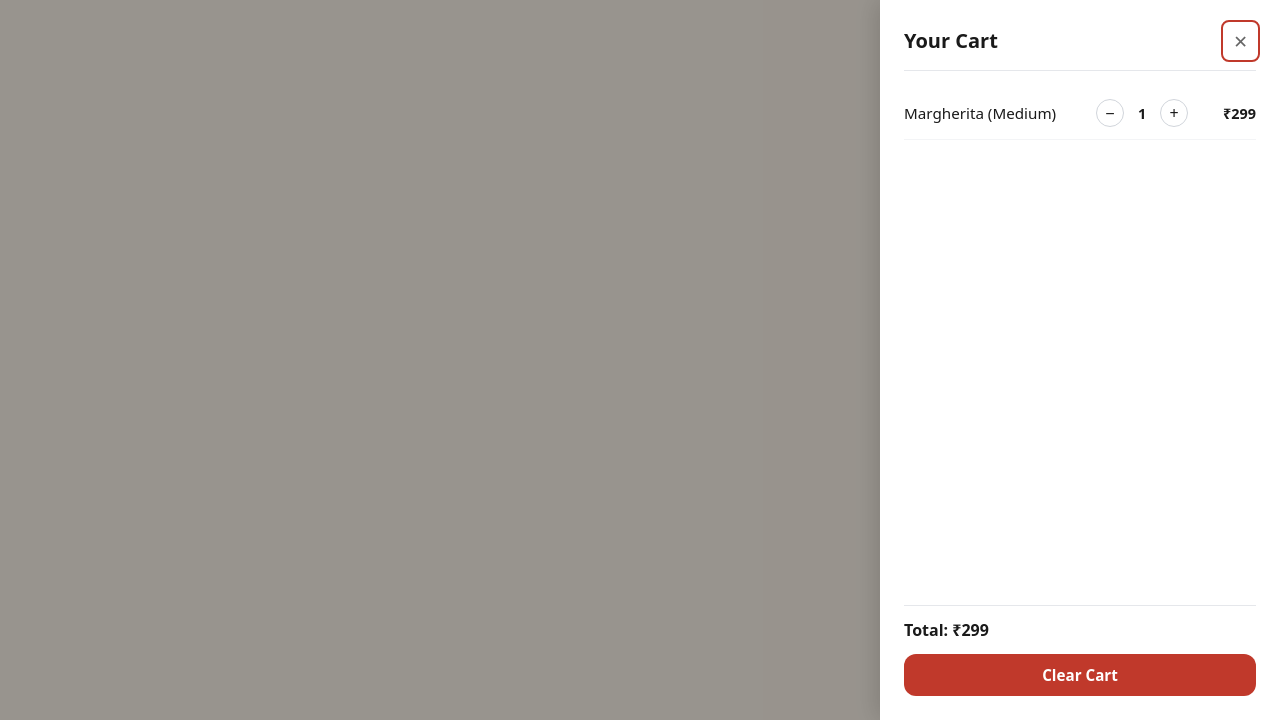
it: CartPanel – + / − controls › clicking + increments the displayed quantity
Click the button named "increase quantity of margherita (medium)" at (1174, 113), box [1160,99,1188,127]
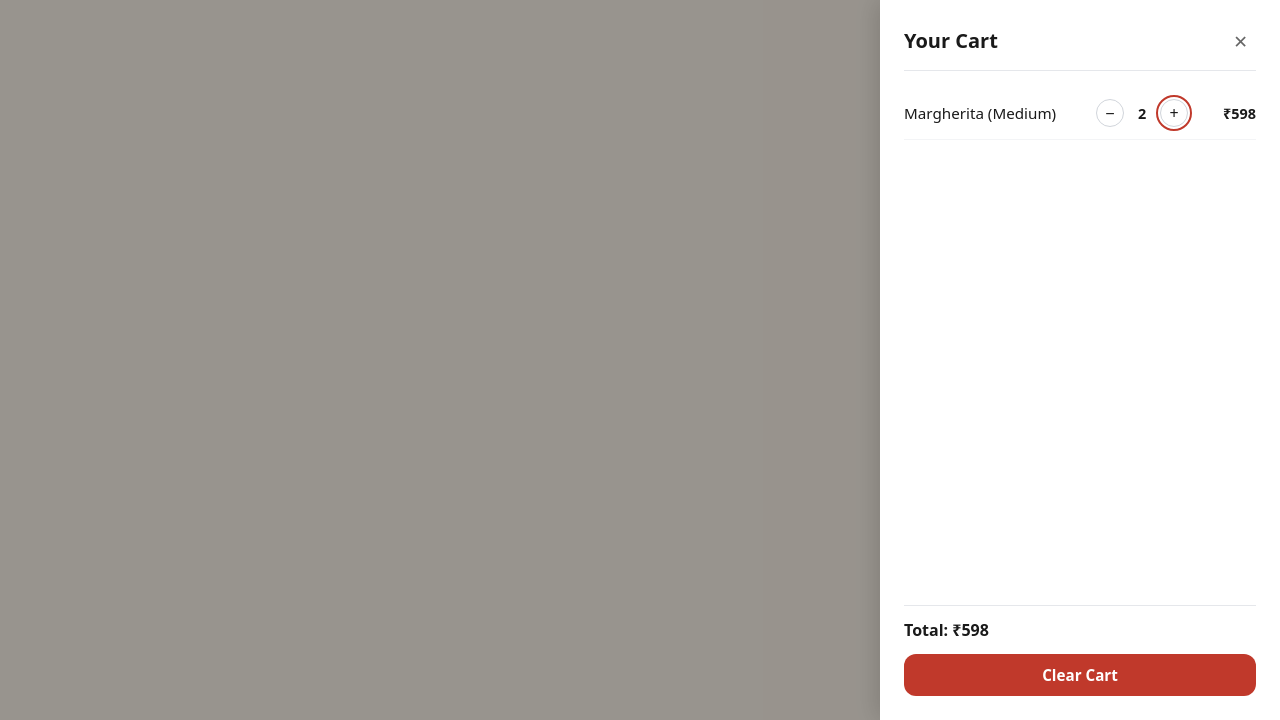
Now the text "2" is shown, box [1138,104,1146,123]
